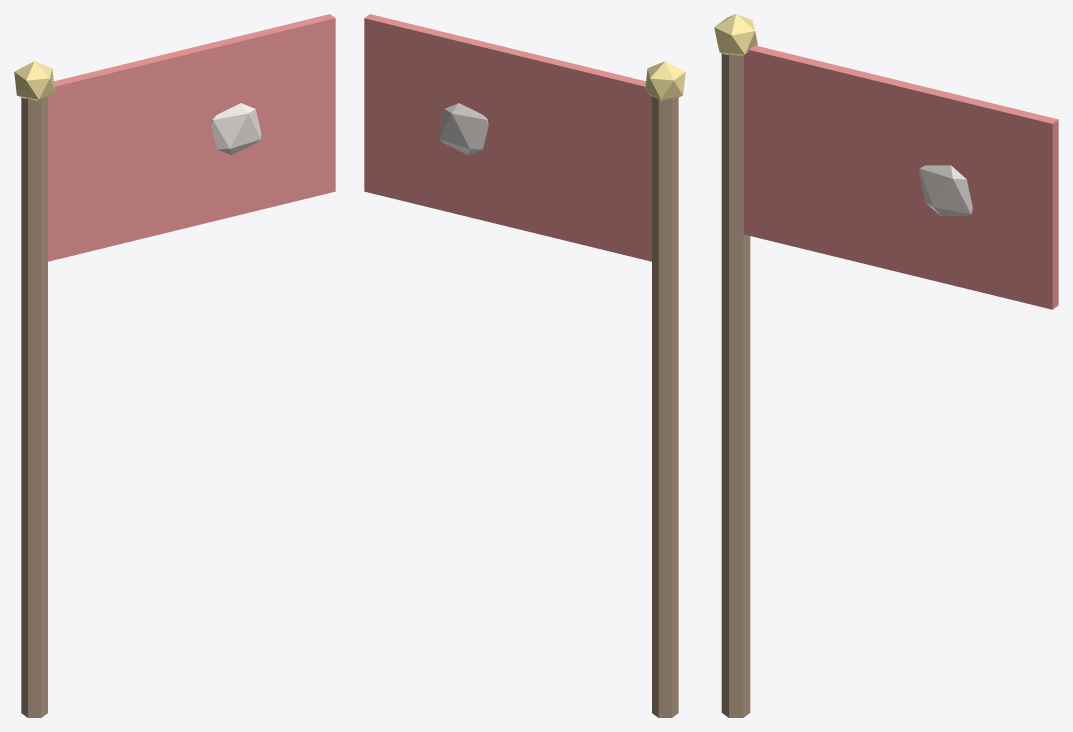
File: Home_Flag.fbx
3 views of the same model, side by side, from view 1: azimuth 30°, elevation 25°; view 2: azimuth 150°, elevation 25°; view 3: azimuth 330°, elevation 25° (orthographic). The views are drawn at different scales.
Parts seen in each view (by area): view 1: FlagCloth, Pole, Emblem, Ball; view 2: FlagCloth, Pole, Emblem, Ball; view 3: FlagCloth, Pole, Emblem, Ball.
Part boxes in pixels (x1,y1,x2,y2): FlagCloth: (48,14,335,261); Pole: (21,96,47,717); Emblem: (211,103,261,155); Ball: (14,61,54,100); FlagCloth: (364,14,651,261); Pole: (652,96,678,717); Emblem: (438,103,488,155); Ball: (645,61,685,100); FlagCloth: (743,45,1058,309); Pole: (721,53,750,717); Emblem: (919,165,972,216); Ball: (714,14,757,56).
Size of the model in its own units: 0.9537 by 1.88 by 0.1021.
